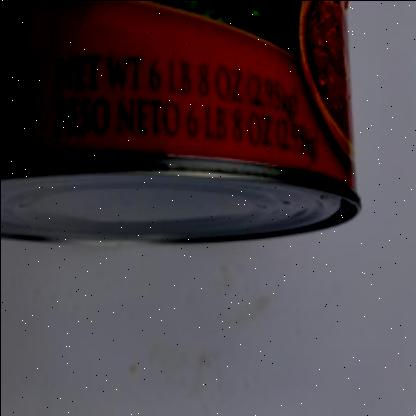Can: (0, 0, 360, 244)
